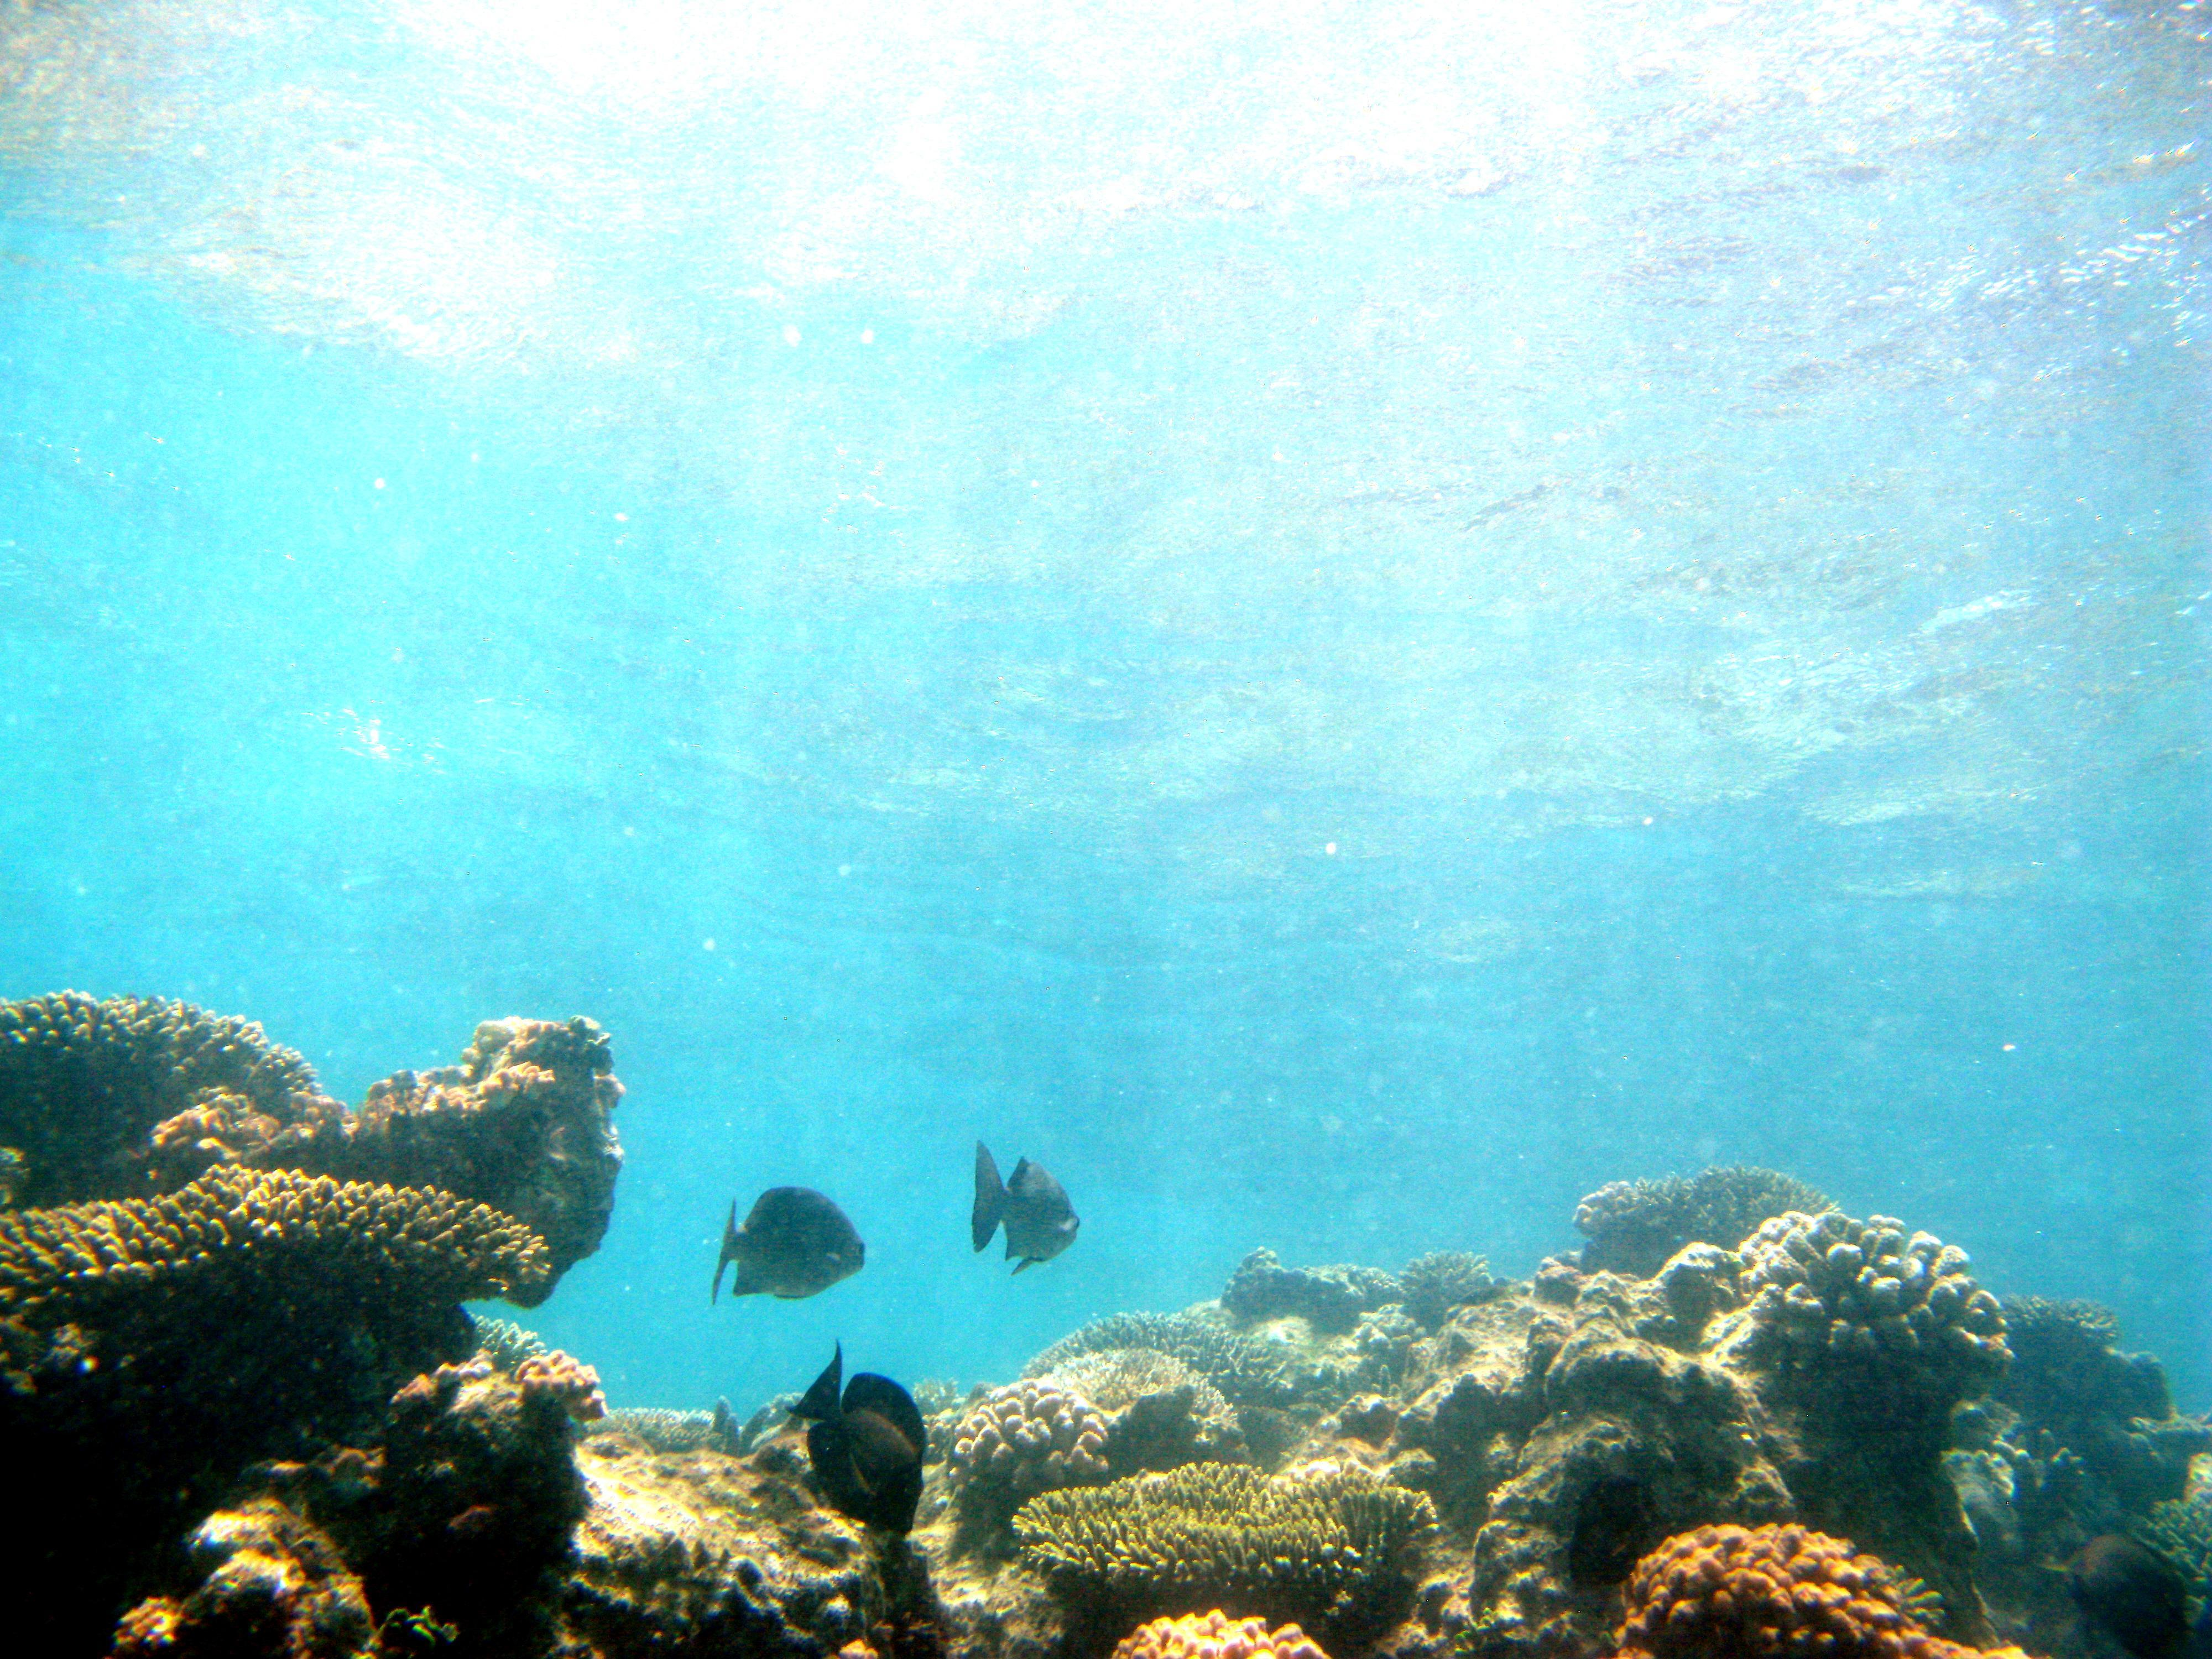Fish: (704, 1169, 876, 1314), (968, 1107, 1092, 1295)
